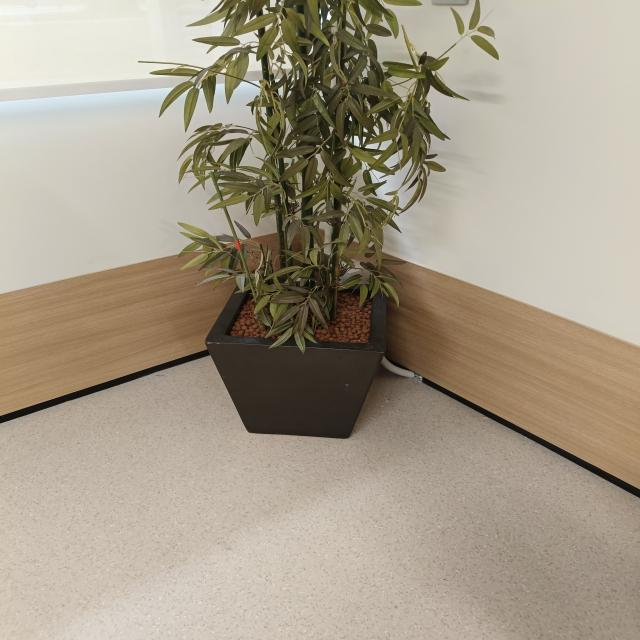Pot: (203, 277, 388, 440)
